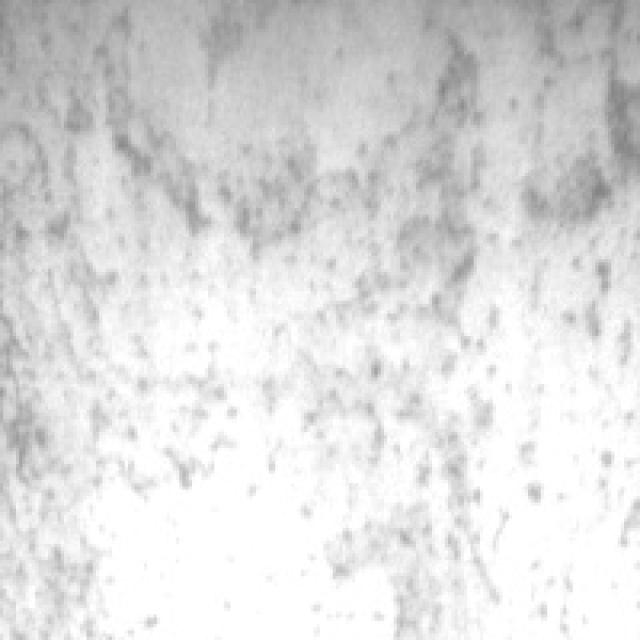pitted_surface: (0, 38, 630, 604)
